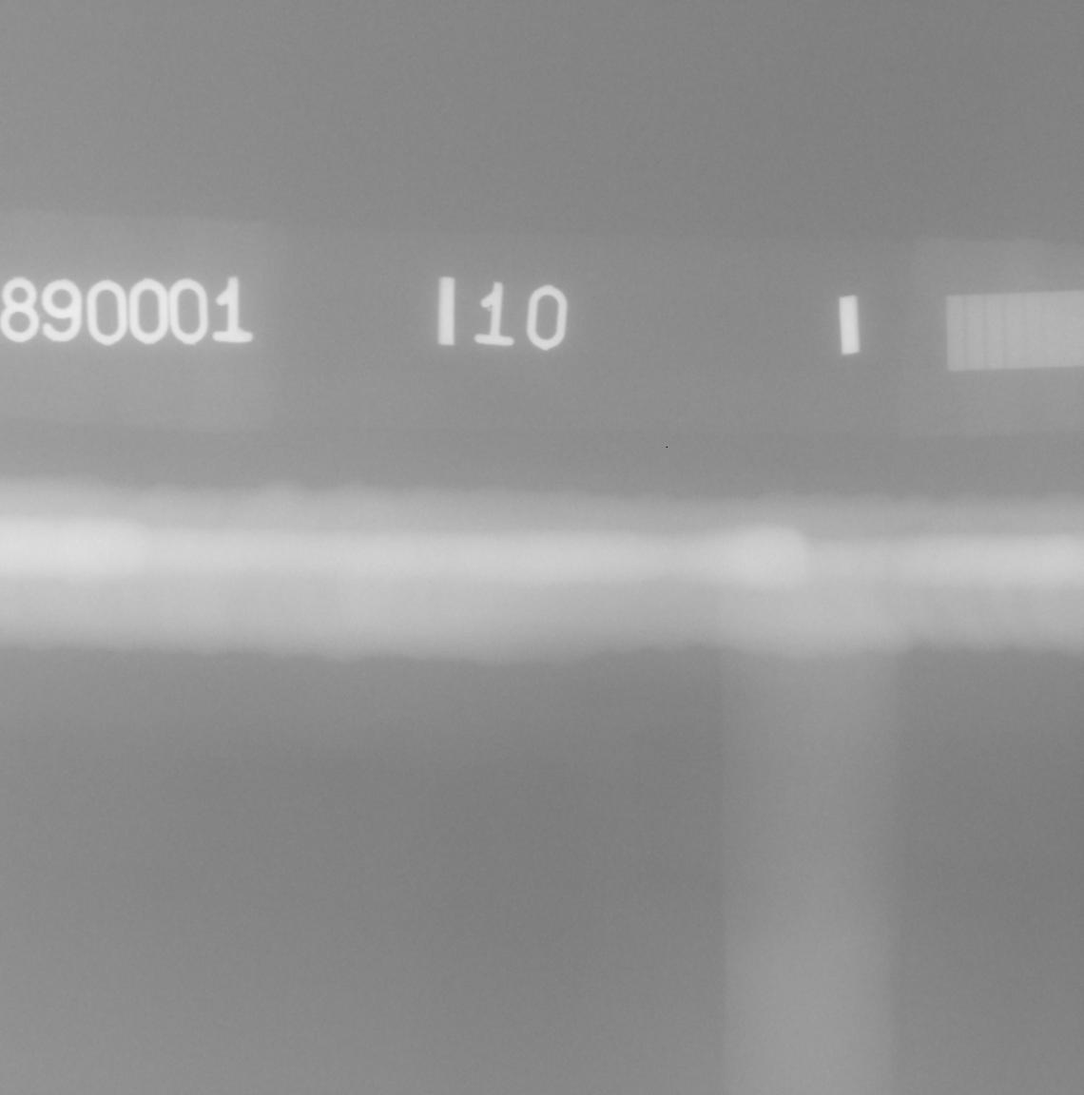Pore/Porosity: (640, 630, 646, 634)
